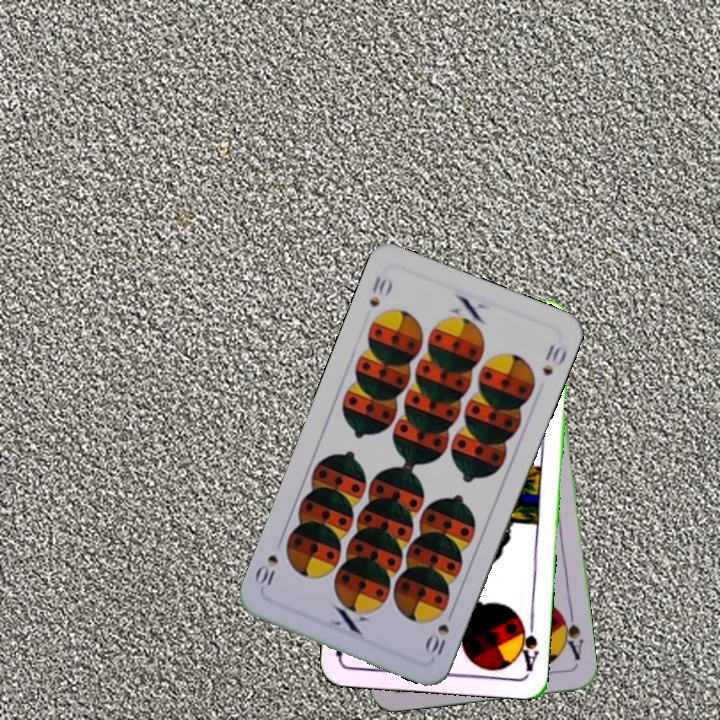S10: (422, 605, 455, 658), (365, 271, 395, 310)
SA: (556, 607, 586, 663), (513, 613, 541, 673)
